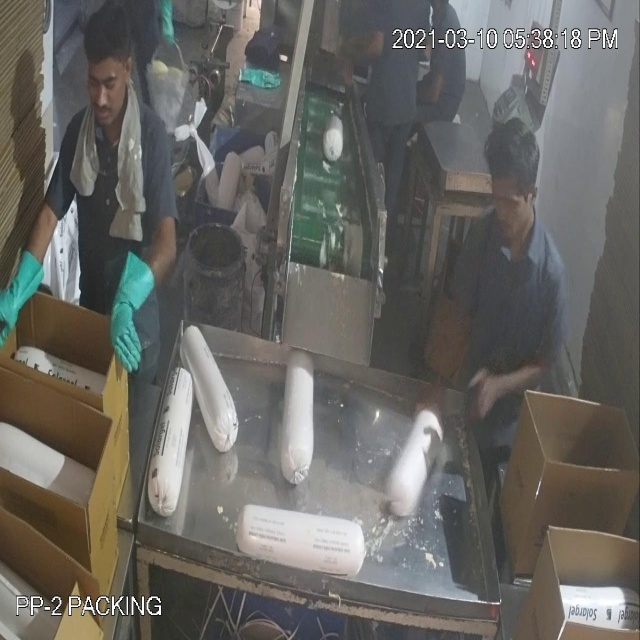Guantes: (98, 244, 167, 388)
Sin_guantes: (405, 260, 468, 456), (465, 349, 561, 450)
